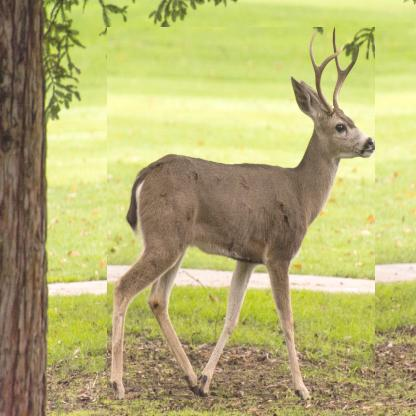Deer: (107, 27, 376, 400)
